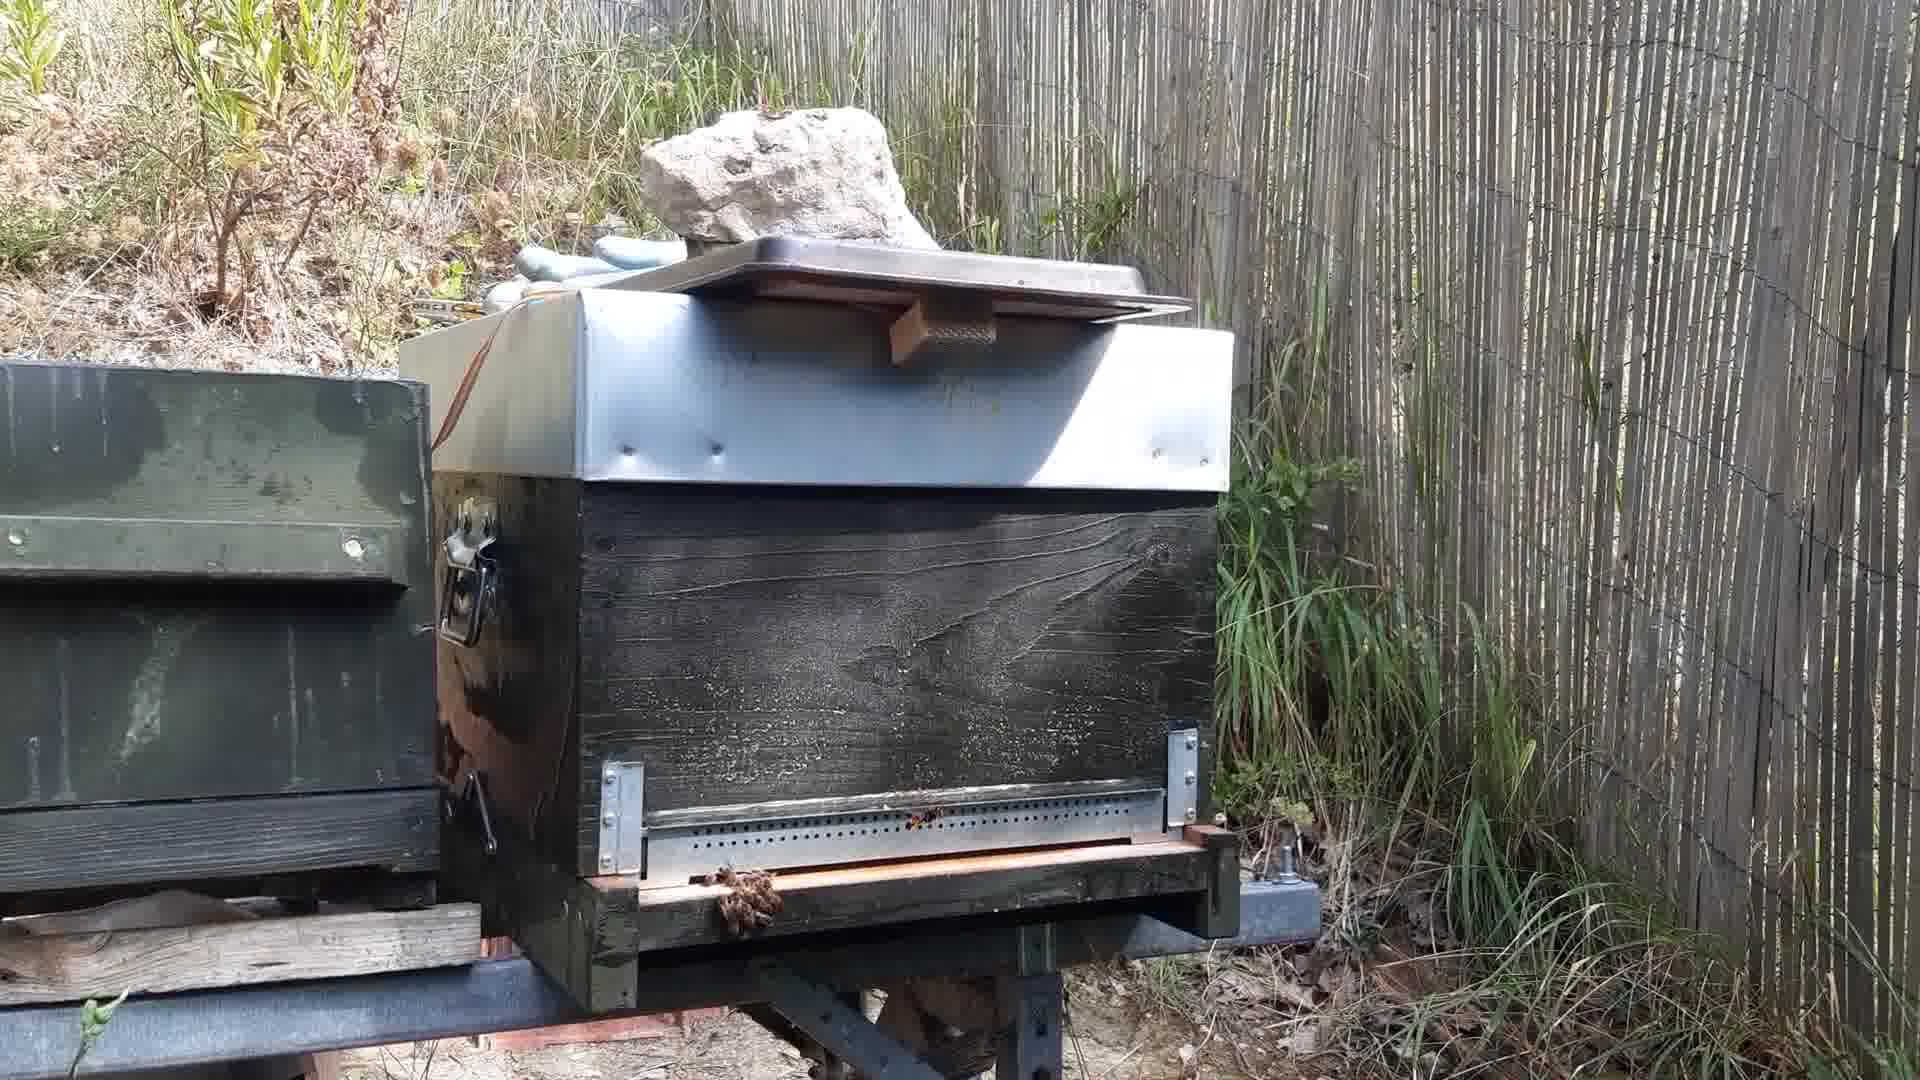bee: (705, 856, 786, 938)
hornet: (909, 804, 945, 831)
